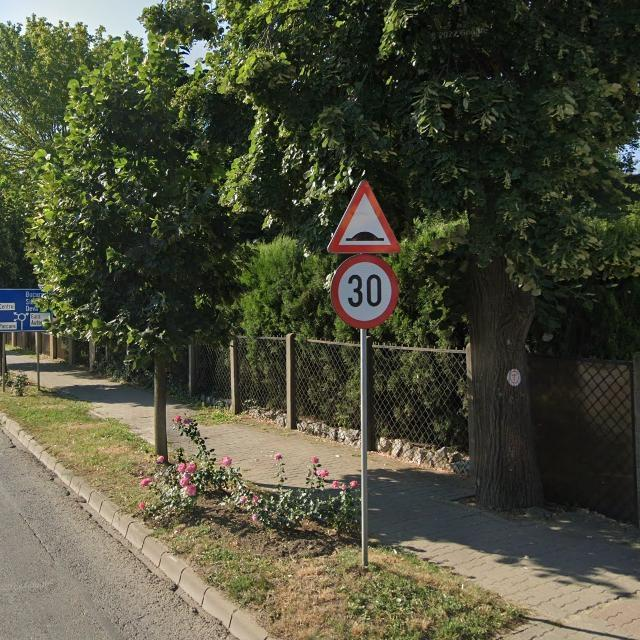forb_speed_over_30: (332, 254, 400, 329)
